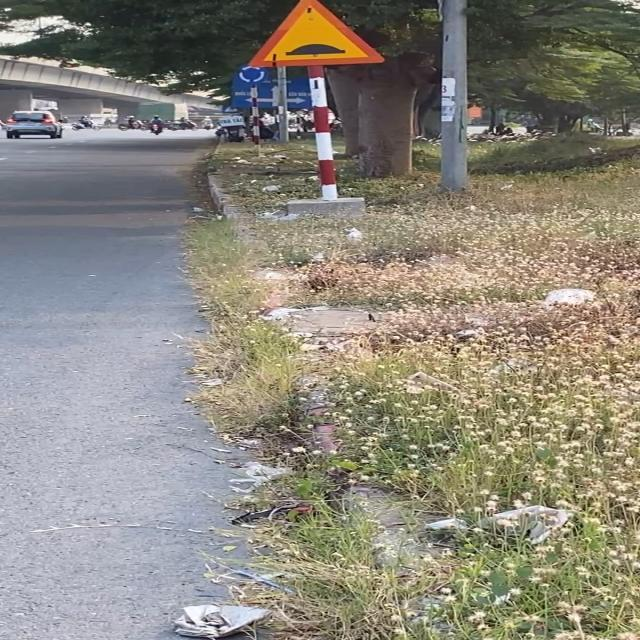221-duong-go-ghe: (245, 0, 387, 70)
303-noi-giao-nhau-chay-theo-vong-xuyen: (235, 65, 268, 83)
